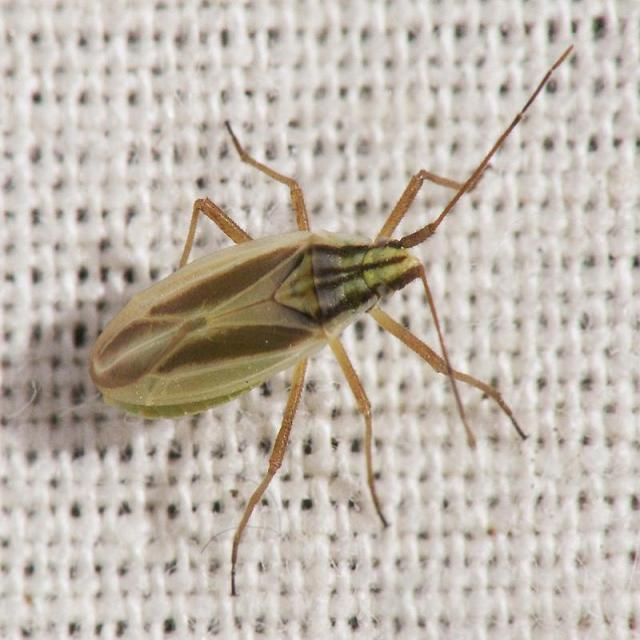Miridae-Adult-: (78, 89, 534, 536)
